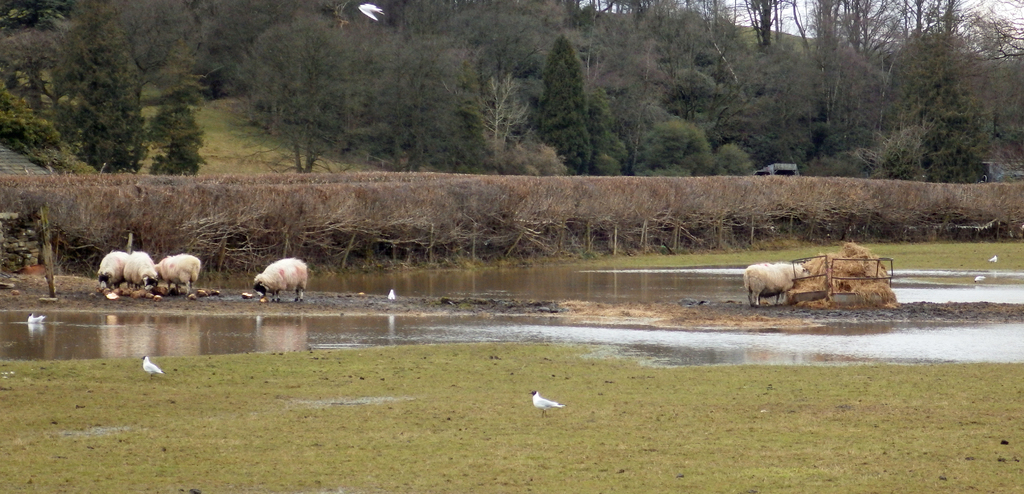sheep: (253, 259, 307, 300), (124, 251, 153, 292)
